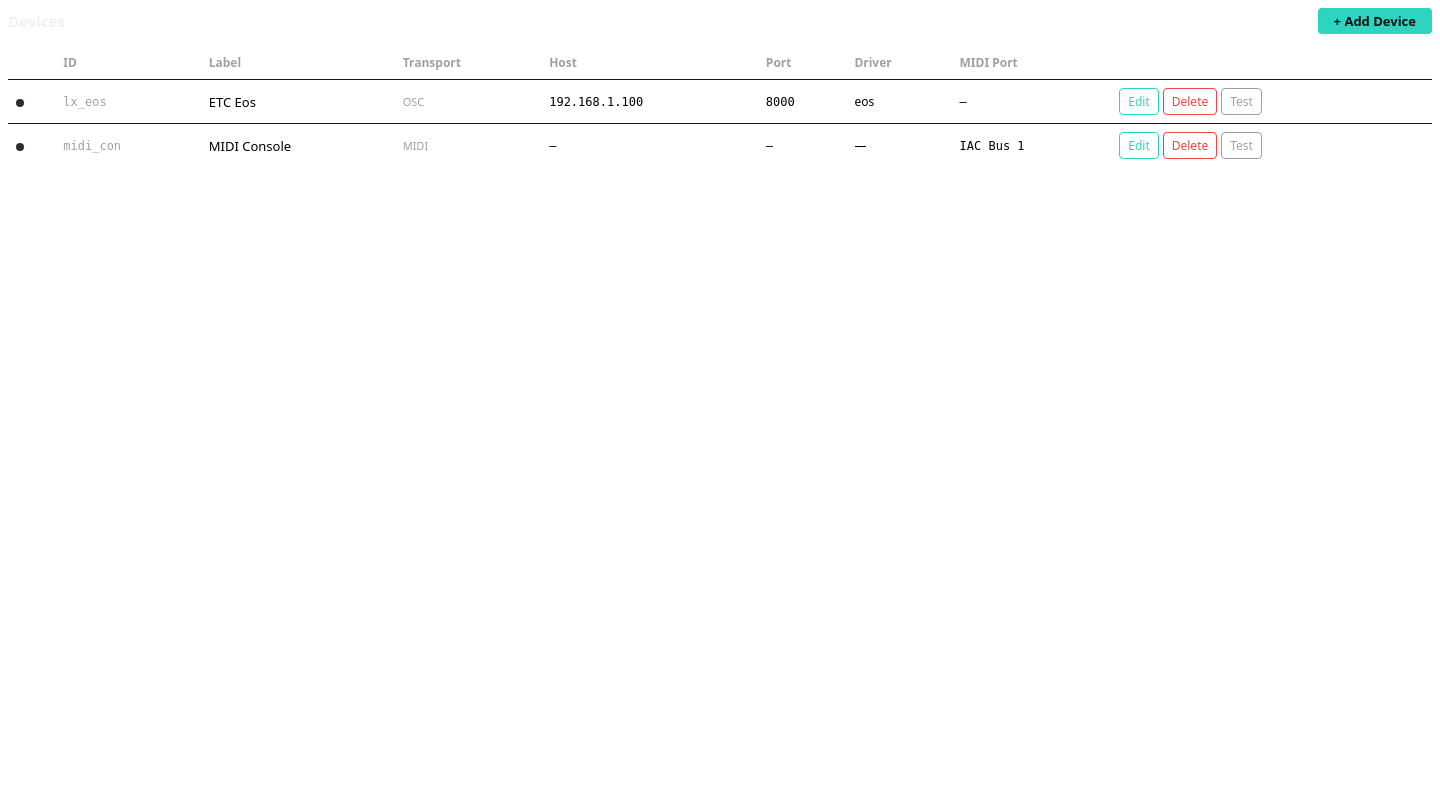
DevicesTable — edit flow › clicking Edit opens DeviceEditDialog
Click the button "Edit" in the row of "lx_eos" at (1139, 102), box [1119,88,1159,115]
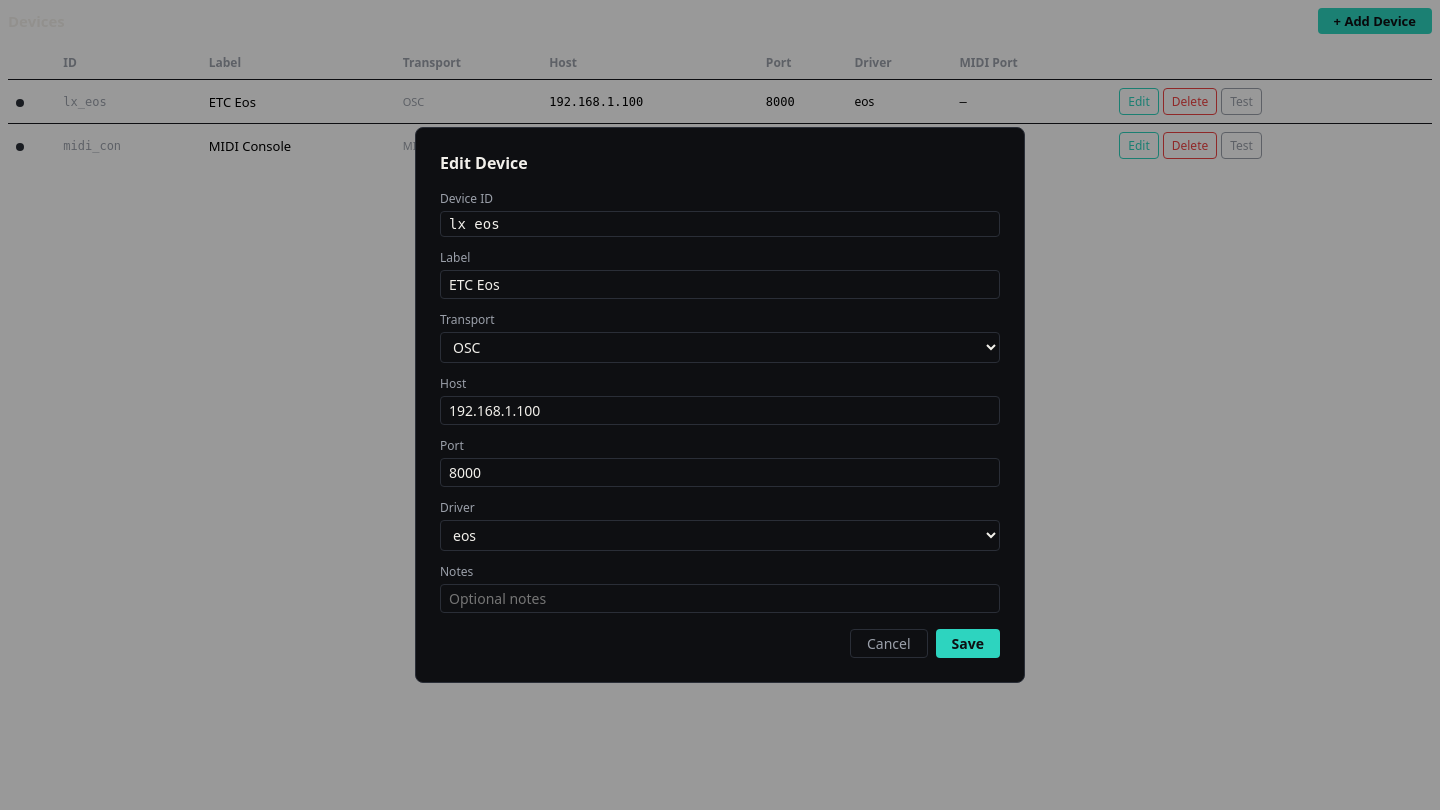
Result: the dialog "Edit Device" is shown
